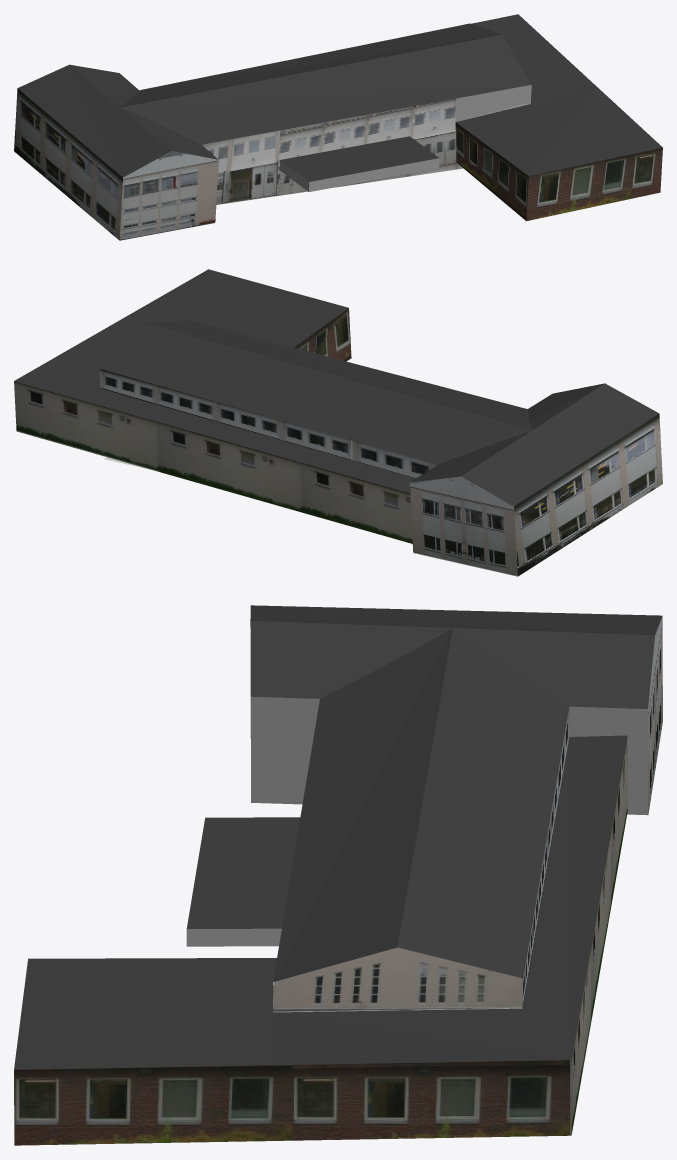
File: Driftssentralen.dae
3 views of the same model, one above another, from view 1: azimuth 30°, elevation 25°; view 2: azimuth 150°, elevation 25°; view 3: azimuth 270°, elevation 25° (orthographic). The views are drawn at different scales.
Visible parts, largest first — view 1: SketchUp (×12); view 2: SketchUp (×9); view 3: SketchUp (×13).
Part boxes in pixels (x1=…): SketchUp (×12): x1=14, y1=14, x2=662, y2=240; SketchUp (×9): x1=14, y1=269, x2=662, y2=576; SketchUp (×13): x1=14, y1=605, x2=662, y2=1145.
Size of the model in its own units: 2264 by 1486 by 448.
Materials: 17 (13 with a texture image).
